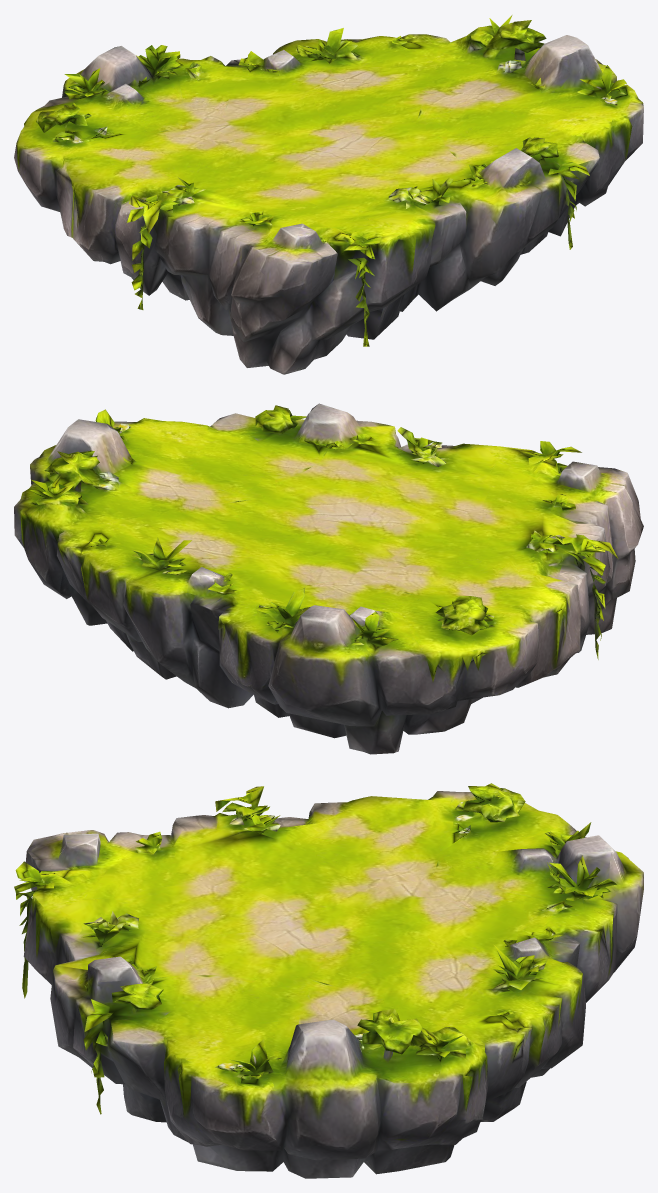
The picture shows the model from 3 angles, top to bottom: view 1: azimuth 30°, elevation 25°; view 2: azimuth 150°, elevation 25°; view 3: azimuth 270°, elevation 25°; orthographic projection. The views are drawn at different scales.
Visible parts, largest first — view 1: prop; view 2: prop; view 3: prop.
Part boxes in pixels (x1,y1,x2,y2): prop: (14,15,643,374); prop: (14,403,643,754); prop: (14,783,643,1178).
Bounding box in the file's own units: 3.39 × 0.9955 × 2.96.
Materials: 1 (1 with a texture image).
